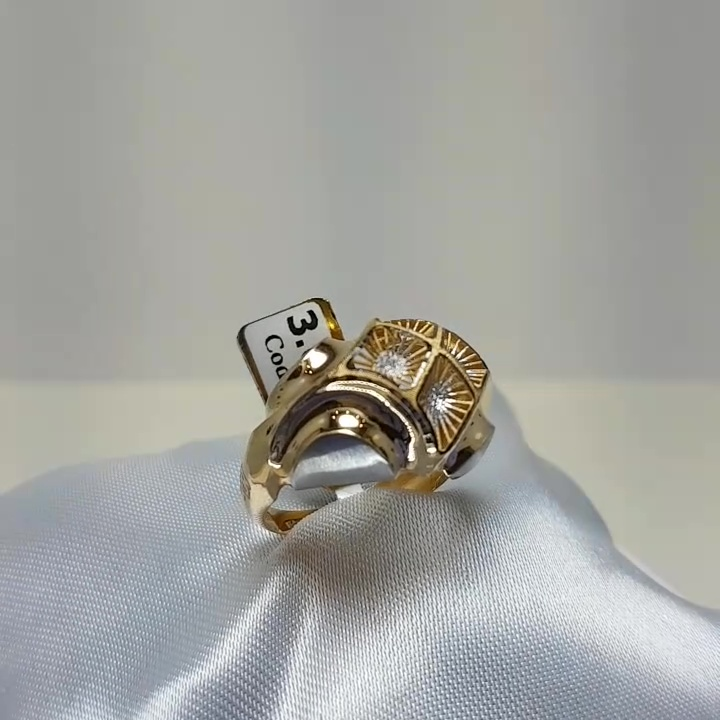Ring 2: (212, 283, 510, 556)
